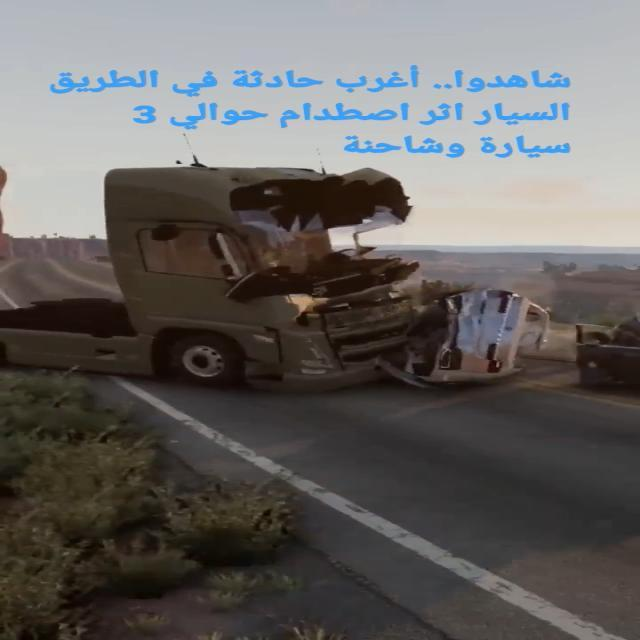accident: (92, 167, 554, 401)
